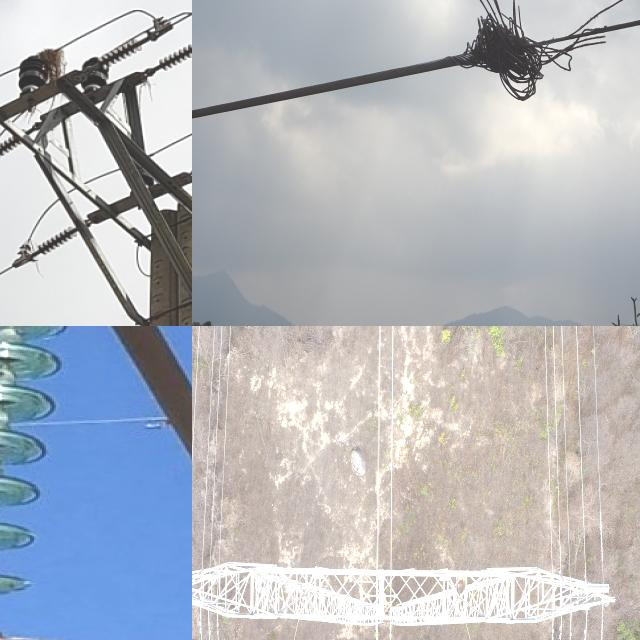杆塔: (52, 326, 192, 640), (192, 558, 614, 632)
植被遮挡: (35, 48, 68, 98)
正常电缆: (200, 326, 217, 556), (216, 326, 233, 555), (209, 326, 225, 555), (543, 326, 555, 558), (592, 326, 604, 557), (372, 326, 384, 557), (560, 326, 571, 556), (575, 326, 586, 555), (192, 326, 205, 519), (552, 326, 562, 556), (389, 326, 396, 556)
正常绝缘子: (0, 326, 75, 640), (13, 205, 101, 276), (85, 26, 154, 76), (144, 32, 192, 84), (0, 124, 32, 164)
电缆破损: (433, 0, 640, 124)
